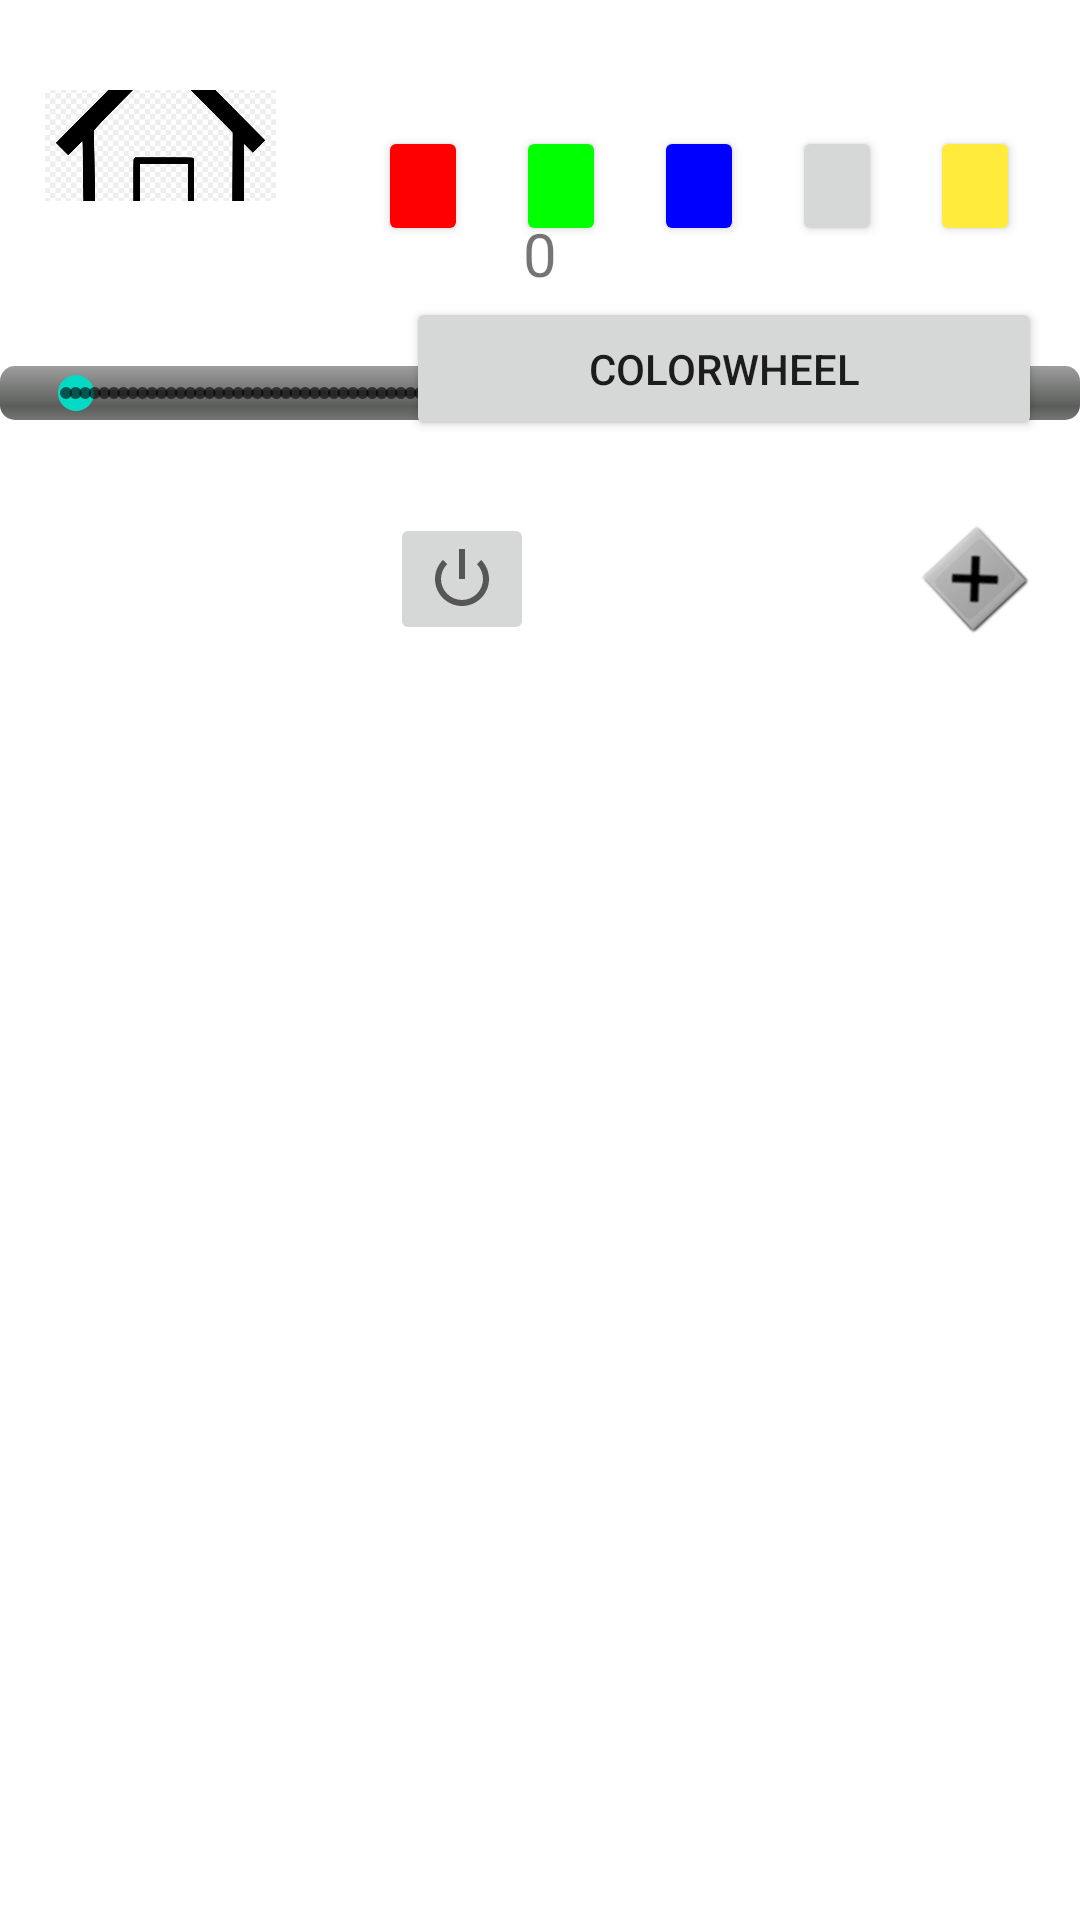

Where icons sit on this 1080x1920 app screen, as (x1, y1, x2, y2):
lock power off: (402, 531, 522, 627)
temphouse: (56, 90, 265, 201)
